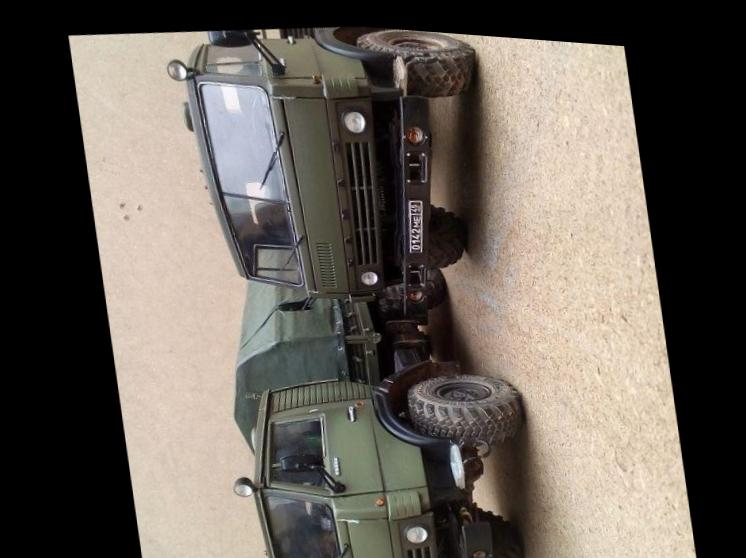truck: (154, 11, 526, 330), (201, 227, 547, 558)
